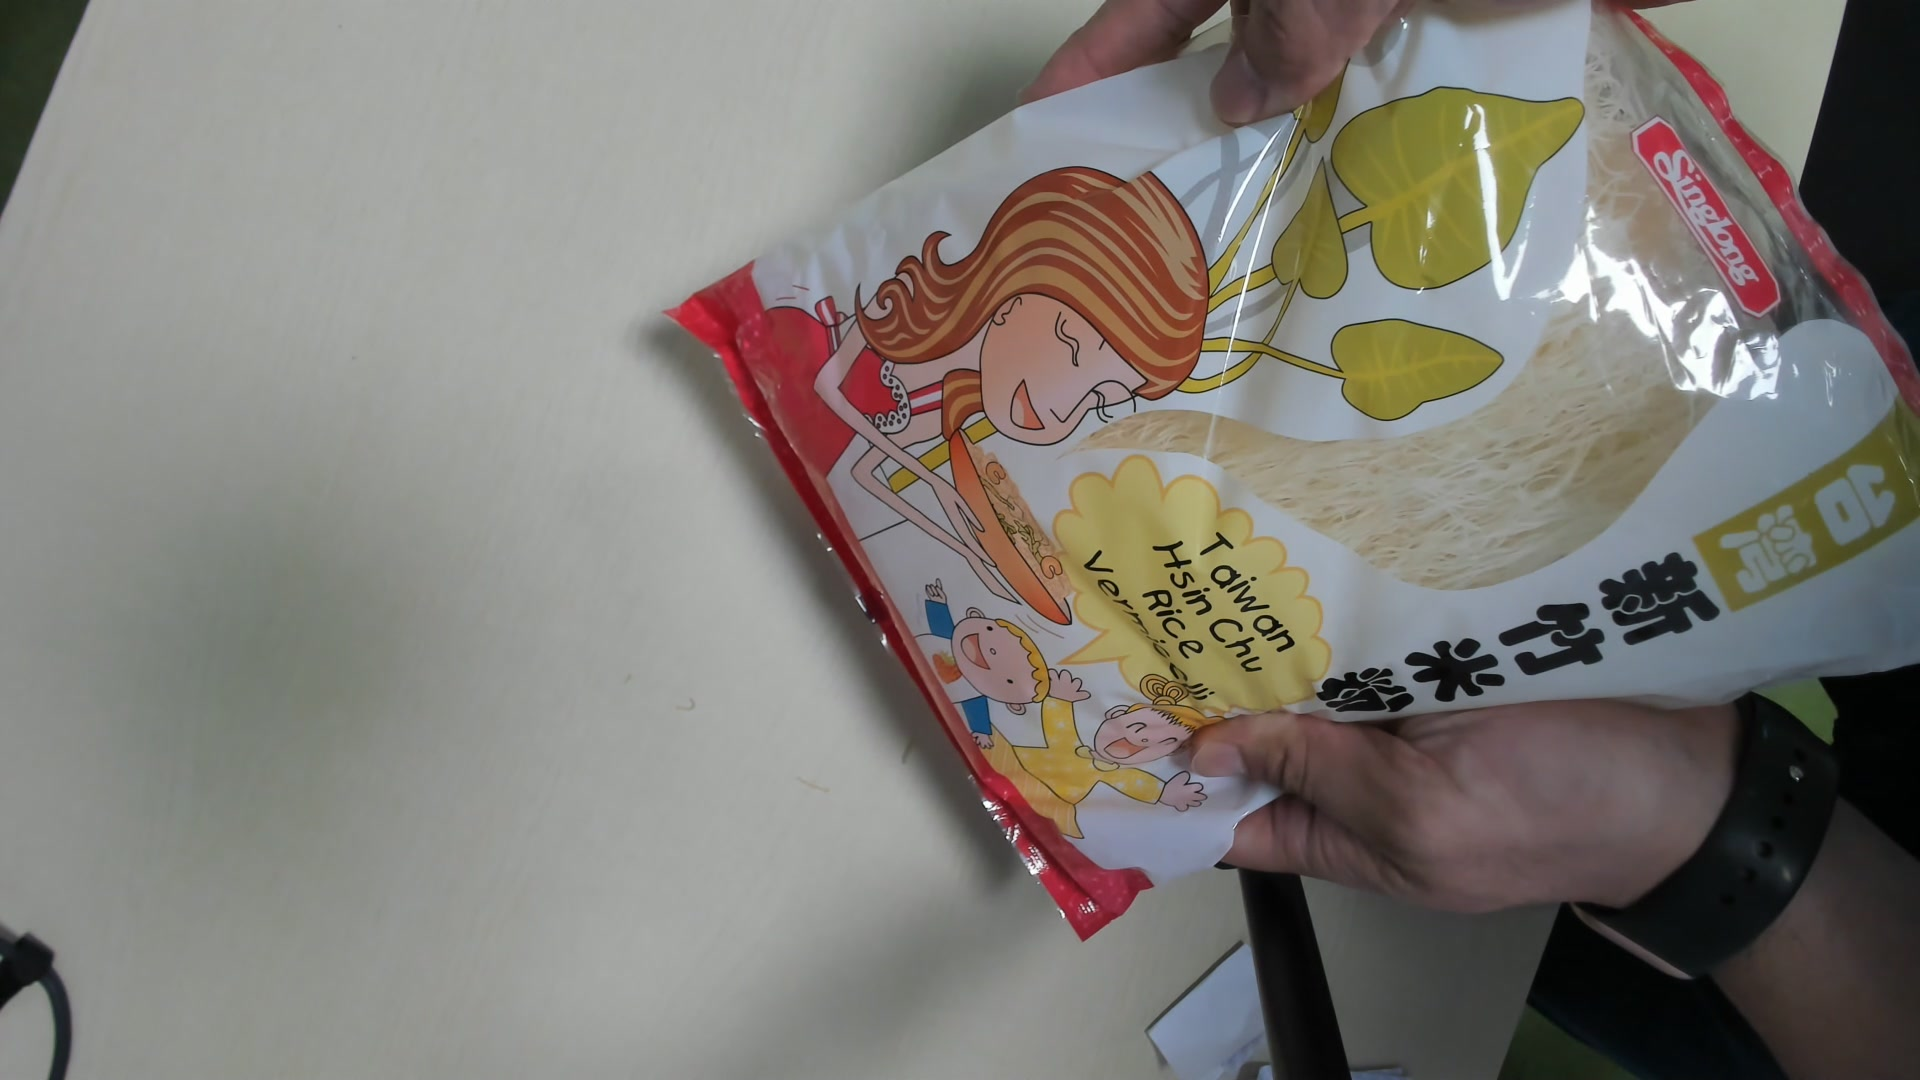BeeHoonVermicelli_0-99g_NonHalal_NonHealthy: (696, 7, 1920, 945)
